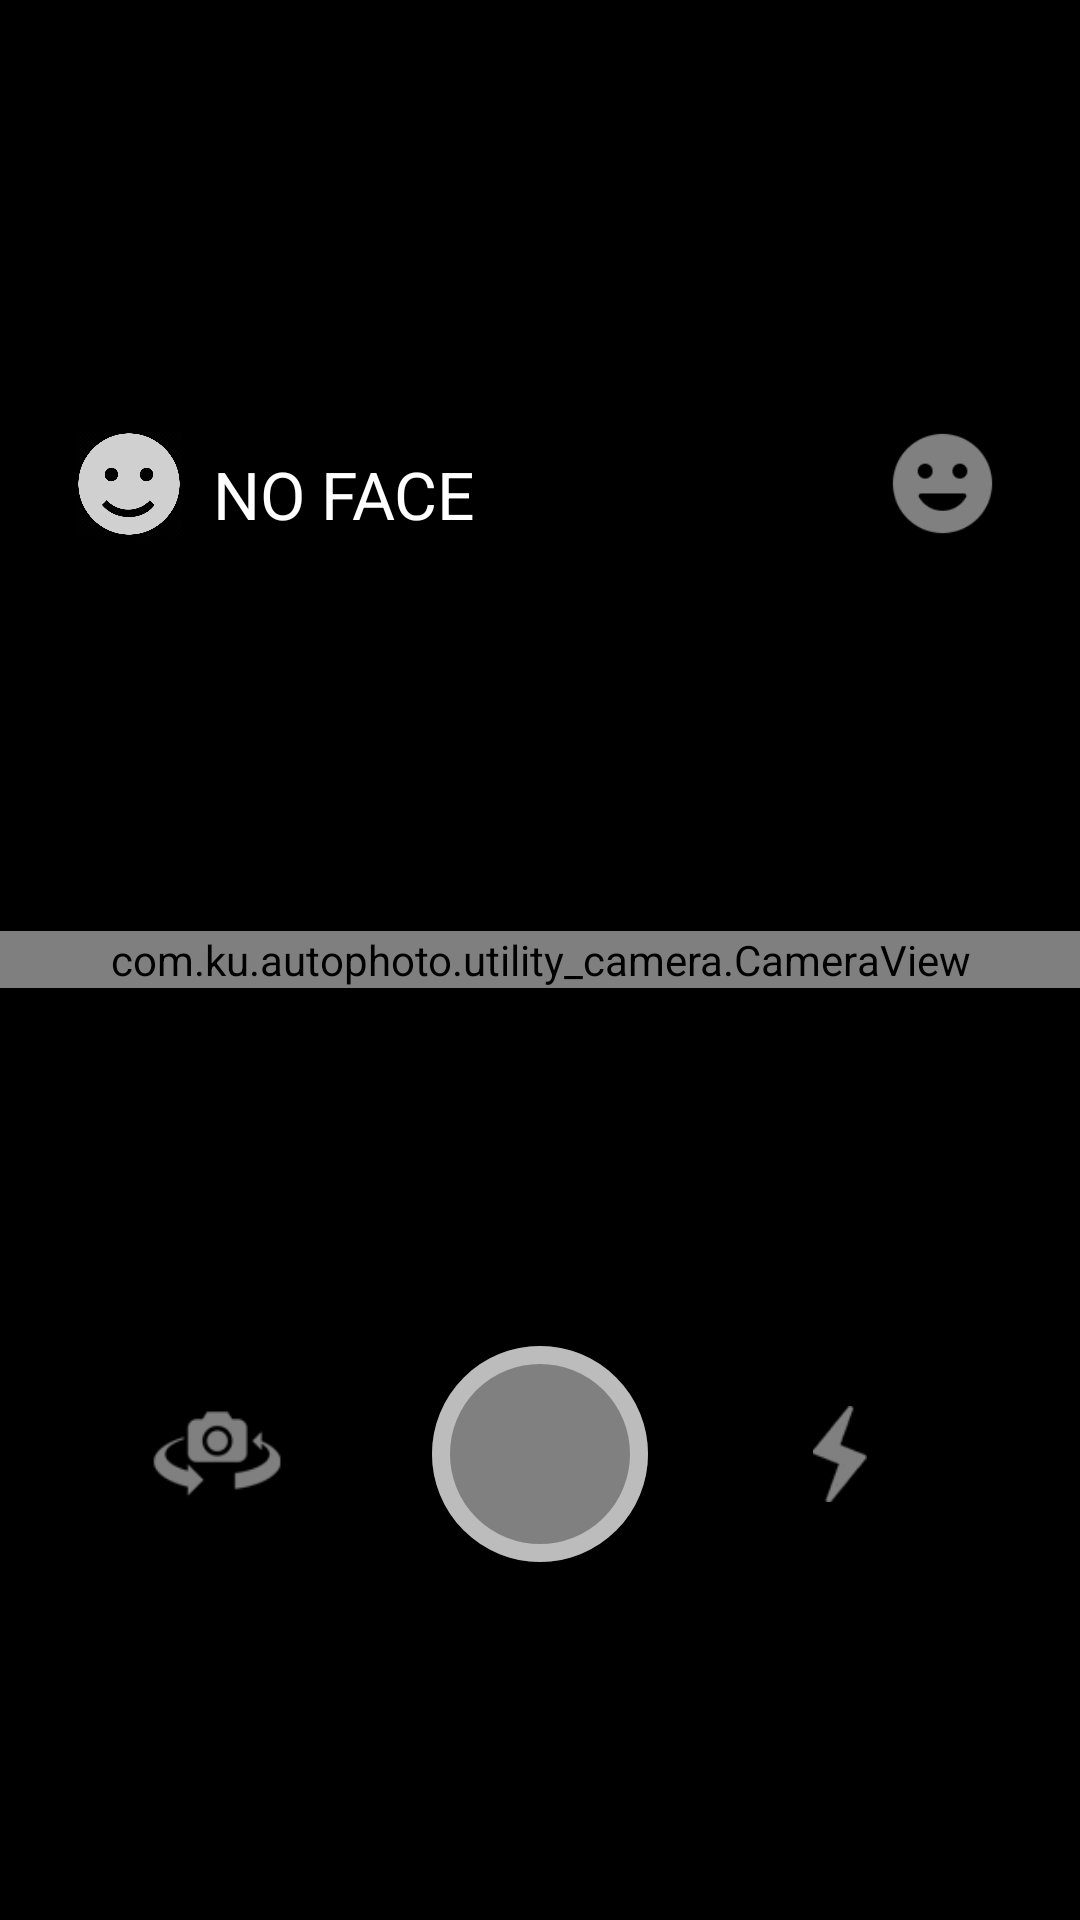

Where to tap for icons on this 1080px x 1920px app screen, as (x,y):
smile: (129,484)
